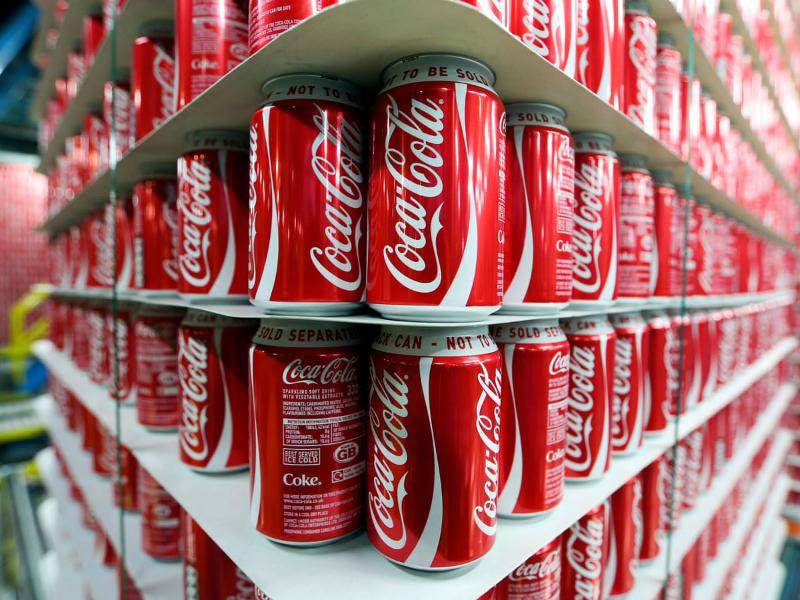can: (366, 44, 511, 320), (366, 317, 502, 570), (240, 70, 373, 319), (247, 322, 368, 546), (504, 96, 576, 318), (174, 130, 254, 313), (506, 312, 572, 520), (172, 316, 256, 476), (564, 314, 618, 484), (573, 128, 618, 309), (174, 0, 250, 103), (576, 2, 627, 113), (515, 1, 578, 77)
